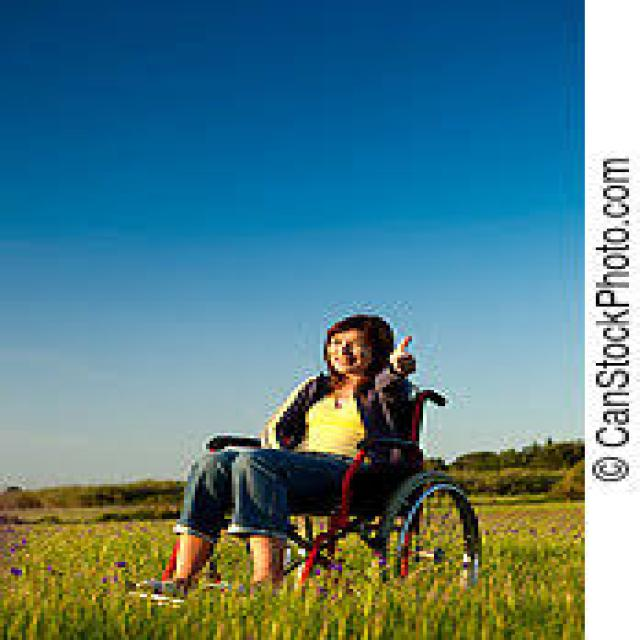wheelchairs: (121, 376, 482, 592)
